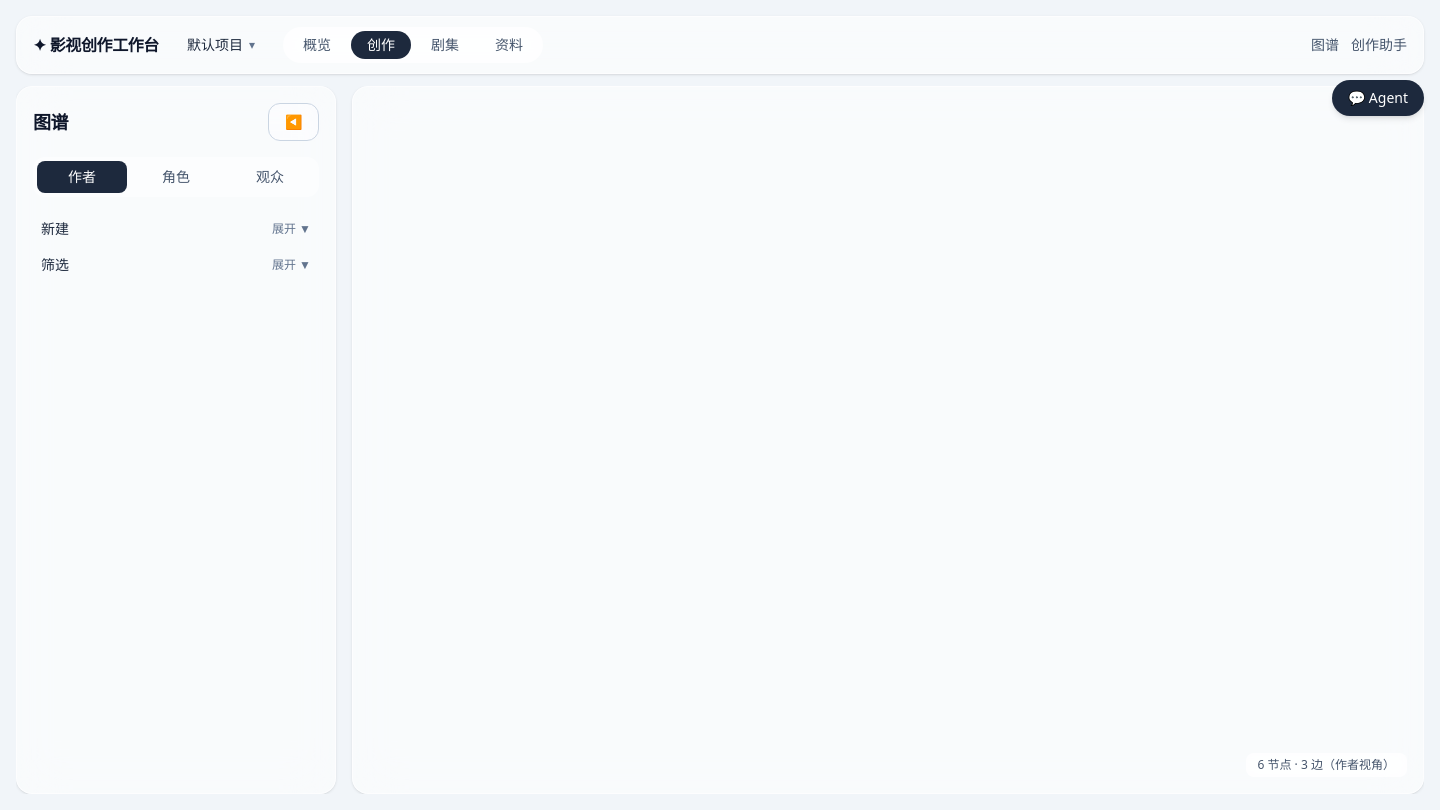
Test: 视角切换集成（F06 I1–I5） › I3: 切「角色」→ 下拉数据源 type=character；未选角色零图请求；选周兰 → 2 节点 1 边
Check: the text with test id "graph-stats" shows "6 节点 · 3 边", box [1246,753,1407,777]
Note: 设计依据: 等价类—选角色有效；边界值—缺参零请求（后端此情形必 403，前端拦截）
Click the button with test id "perspective-character": (176, 177) [131,161,221,193]
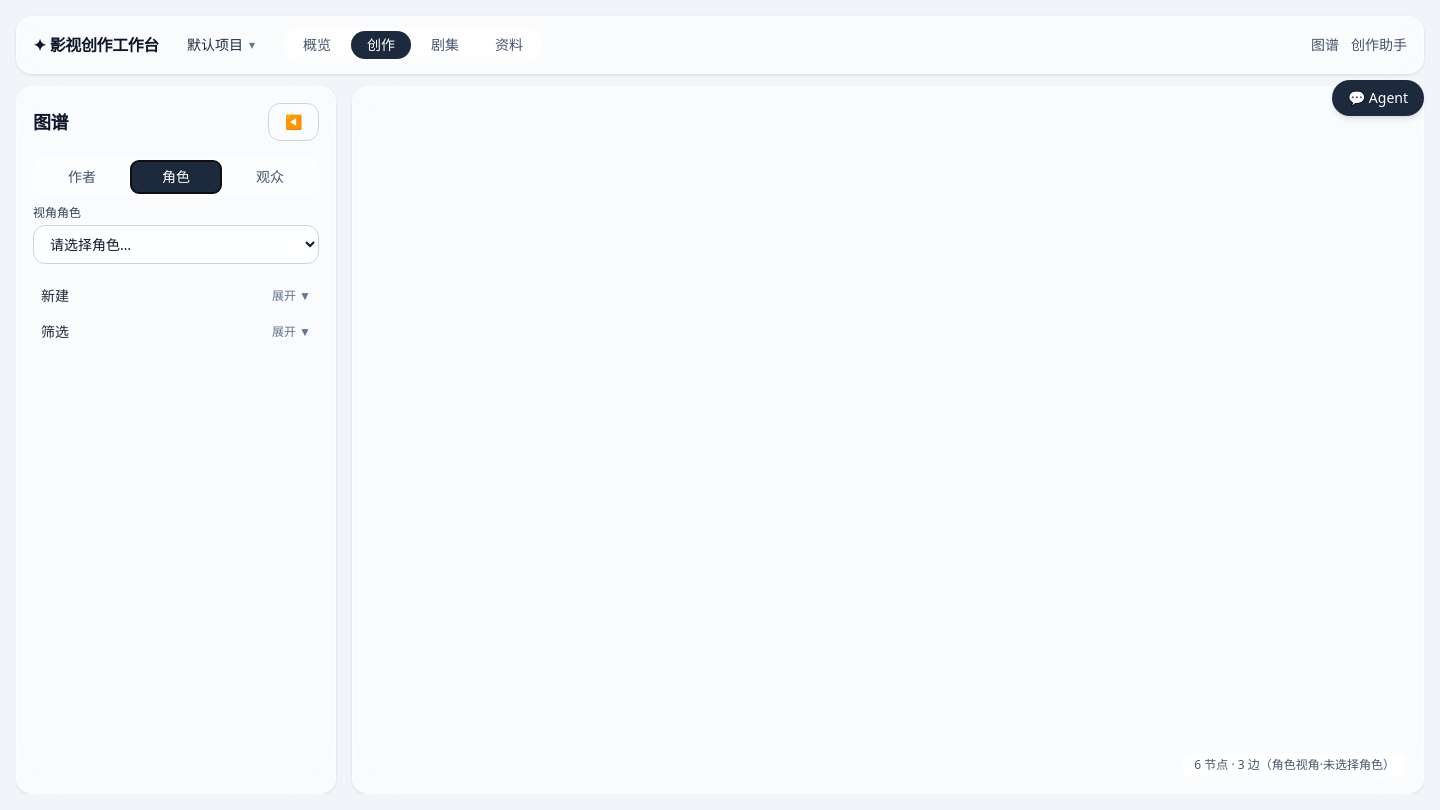
Check: the text with test id "graph-stats" shows "（角色视角·未选择角色）", box [1182,753,1407,777]
Select "周兰" in the dropdown with test id "character-select": (176, 244) [33,225,319,264]
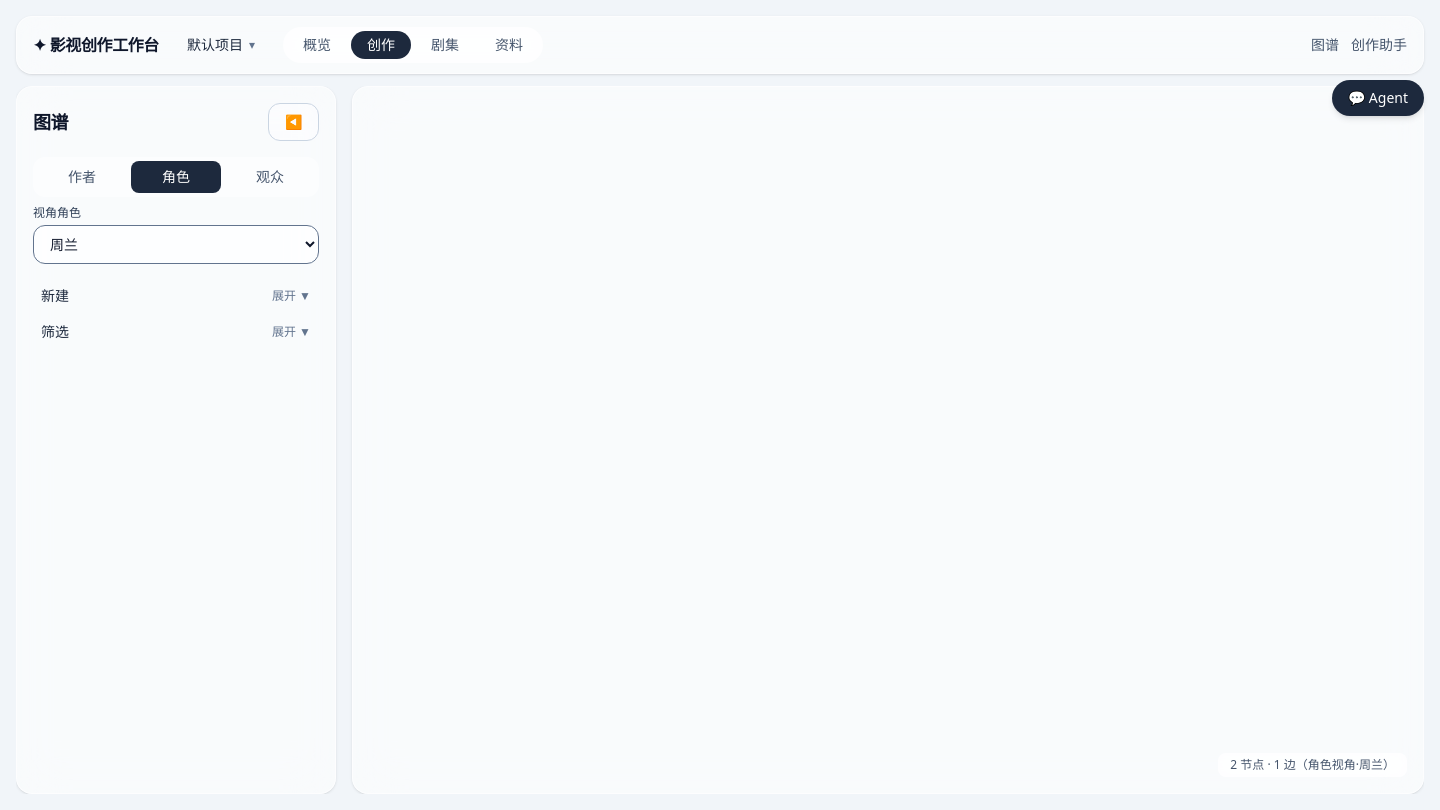
Check: the text with test id "graph-stats" shows "2 节点 · 1 边", box [1218,753,1407,777]
Check: the text with test id "graph-stats" shows "（角色视角·周兰）", box [1218,753,1407,777]
